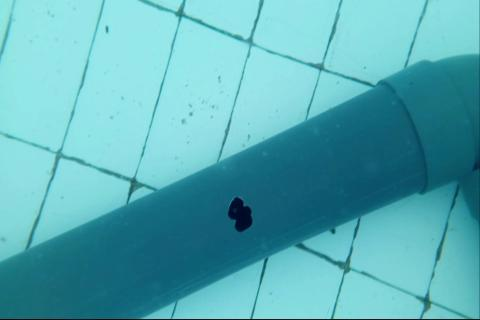kebocoran: (226, 193, 254, 232)
